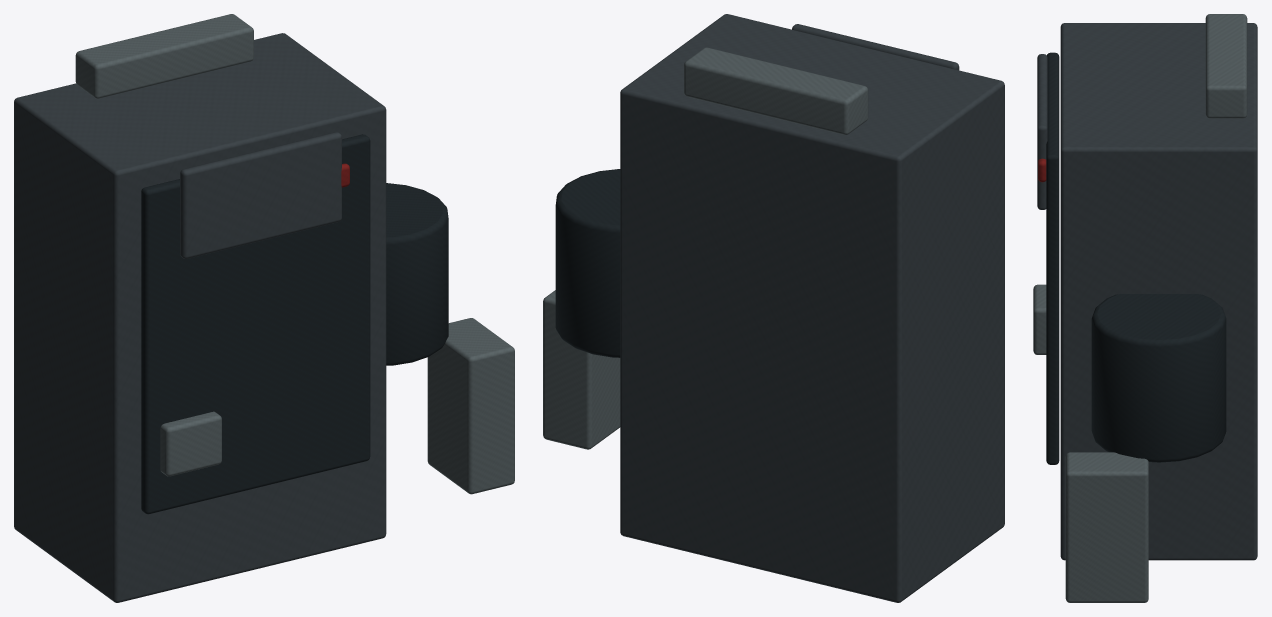
Rendered from PortableContaminationMonitor.fbx.
3 renders of one model, left to right at view 1: azimuth 30°, elevation 25°; view 2: azimuth 150°, elevation 25°; view 3: azimuth 270°, elevation 25°, orthographic. The views are drawn at different scales.
Parts seen in each view (by area): view 1: PortableContaminationMonitor_Mesh; view 2: PortableContaminationMonitor_Mesh; view 3: PortableContaminationMonitor_Mesh.
Boxes of the visible parts, x1=… form: PortableContaminationMonitor_Mesh: x1=14, y1=14, x2=514, y2=602; PortableContaminationMonitor_Mesh: x1=543, y1=14, x2=1004, y2=602; PortableContaminationMonitor_Mesh: x1=1033, y1=14, x2=1257, y2=602.
Size of the model in its own units: 86 by 95.5 by 43.25.
4 materials, 4 textured.
